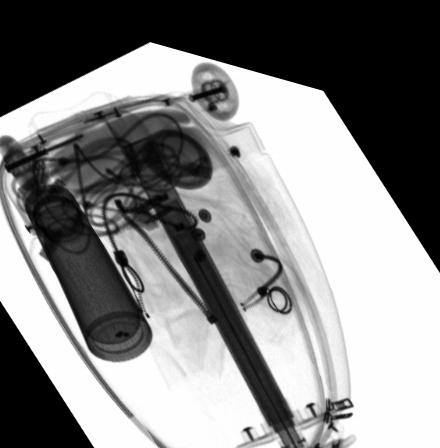Knife: (4, 129, 83, 172)
